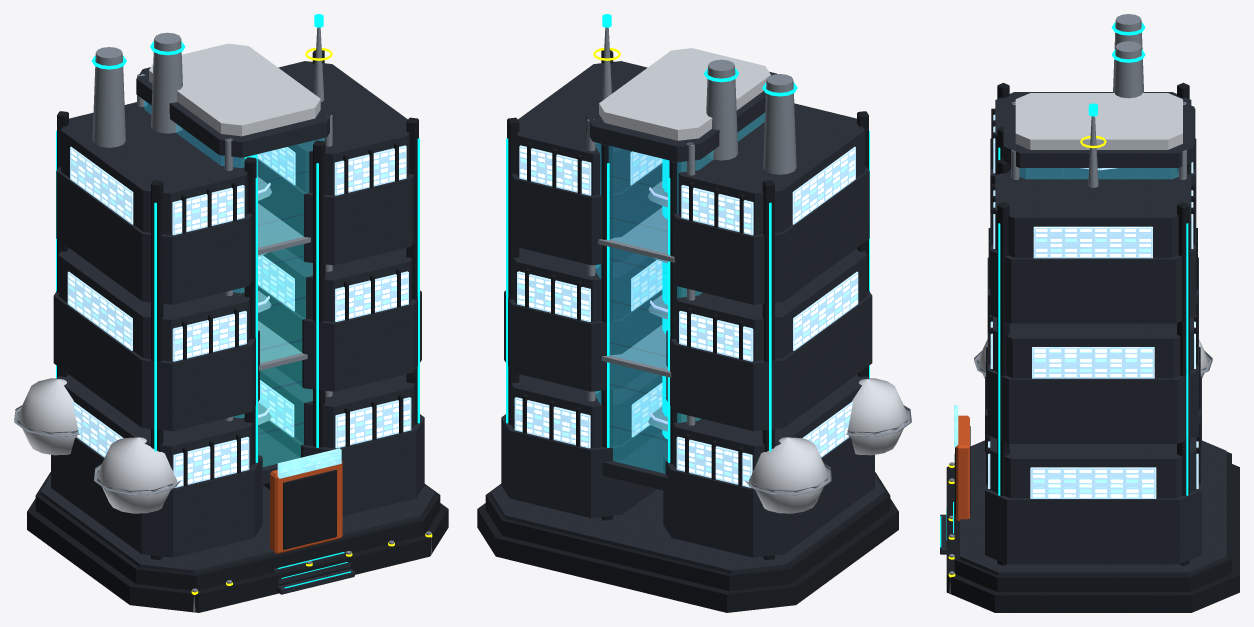
The model's file is bldg_07_r1_03.glb.
The picture shows the model from 3 angles, left to right: view 1: azimuth 30°, elevation 25°; view 2: azimuth 150°, elevation 25°; view 3: azimuth 270°, elevation 25°; orthographic projection. The views are drawn at different scales.
Parts seen in each view (by area): view 1: Bldg07_C03_carbon_slate, Bldg07_C03_gunmetal, Bldg07_C03_window_lit, Bldg07_C03_aero_white, Bldg07_C03_glass_cyan, Bldg07_C03_steel_machined, Bldg07_C03_led_cyan, Bldg07_C03_accent_orange, Bldg07_C03_marquee; view 2: Bldg07_C03_carbon_slate, Bldg07_C03_gunmetal, Bldg07_C03_window_lit, Bldg07_C03_glass_cyan, Bldg07_C03_aero_white, Bldg07_C03_steel_machined, Bldg07_C03_led_cyan; view 3: Bldg07_C03_carbon_slate, Bldg07_C03_gunmetal, Bldg07_C03_window_lit, Bldg07_C03_aero_white, Bldg07_C03_steel_machined, Bldg07_C03_led_cyan, Bldg07_C03_glass_cyan, Bldg07_C03_accent_orange.
Boxes of the visible parts, x1,y1,x2,y2 form: Bldg07_C03_carbon_slate: (40,61,435,594); Bldg07_C03_gunmetal: (27,50,448,612); Bldg07_C03_window_lit: (67,145,411,487); Bldg07_C03_aero_white: (17,43,320,513); Bldg07_C03_glass_cyan: (144,101,324,466); Bldg07_C03_steel_machined: (14,27,431,612); Bldg07_C03_led_cyan: (56,14,419,588); Bldg07_C03_accent_orange: (270,461,342,553); Bldg07_C03_marquee: (277,448,341,478); Bldg07_C03_carbon_slate: (490,61,885,573); Bldg07_C03_gunmetal: (477,50,898,612); Bldg07_C03_window_lit: (514,145,858,487); Bldg07_C03_glass_cyan: (595,113,764,473); Bldg07_C03_aero_white: (599,48,908,513); Bldg07_C03_steel_machined: (587,27,911,495); Bldg07_C03_led_cyan: (506,14,869,462); Bldg07_C03_carbon_slate: (940,92,1226,575); Bldg07_C03_gunmetal: (946,82,1239,612); Bldg07_C03_window_lit: (988,114,1198,498); Bldg07_C03_aero_white: (978,93,1208,378); Bldg07_C03_steel_machined: (949,14,1212,594); Bldg07_C03_led_cyan: (940,22,1188,547); Bldg07_C03_glass_cyan: (1020,168,1178,178); Bldg07_C03_accent_orange: (956,415,969,520).
Size of the model in its own units: 12.67 by 17.72 by 10.23.
Materials: 11 (11 with a texture image).
